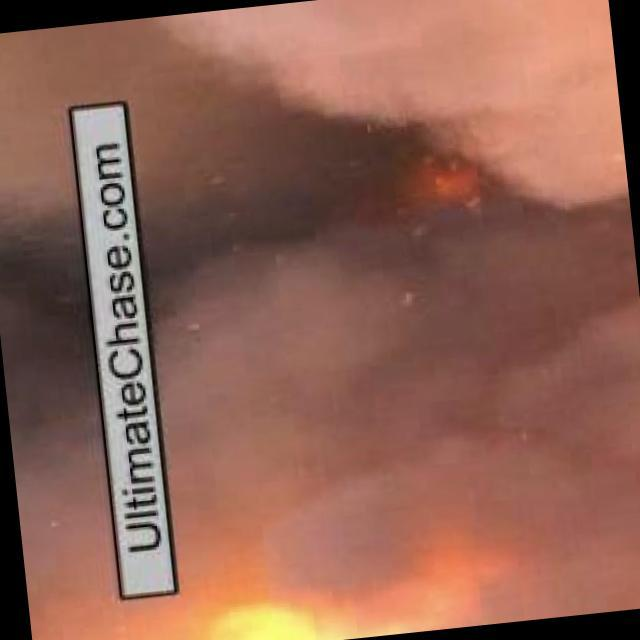Fire: (124, 533, 509, 640), (387, 135, 503, 214)
